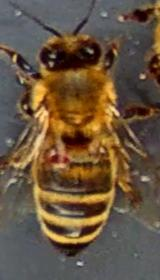varroa_mite: (41, 144, 80, 182)
